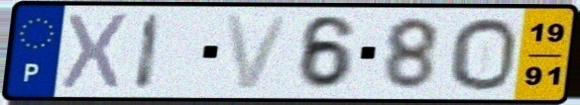6: (291, 13, 363, 93)
8: (382, 15, 445, 92)
I: (131, 11, 167, 94)
O: (447, 15, 519, 93)
V: (222, 12, 295, 92)
X: (57, 11, 133, 93)
